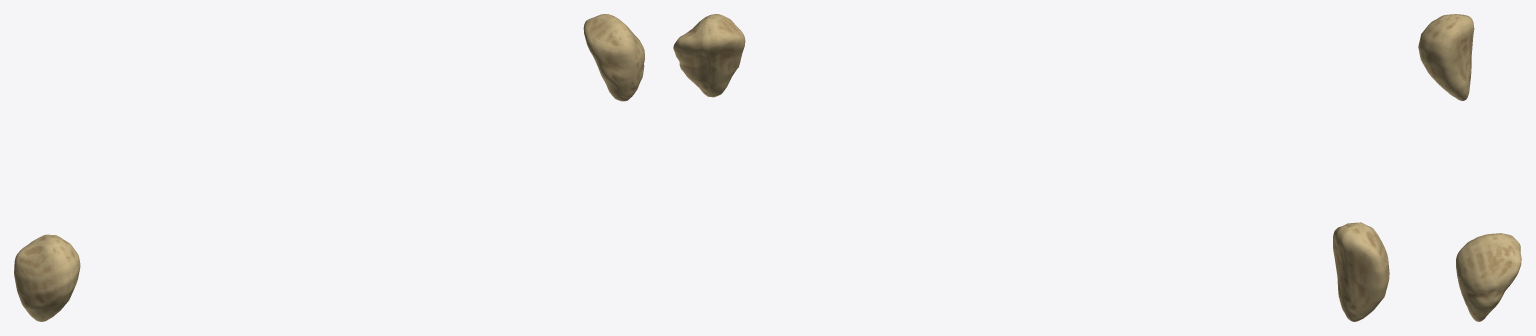
File: Patella.glb
3 views of the same model, side by side, from view 1: azimuth 30°, elevation 25°; view 2: azimuth 150°, elevation 25°; view 3: azimuth 270°, elevation 25° (orthographic). The views are drawn at different scales.
Parts seen in each view (by area): view 1: Group53789.001; view 2: Group53789.001; view 3: Group53789.001.
Boxes of the visible parts, x1=… form: Group53789.001: x1=14, y1=14, x2=644, y2=321; Group53789.001: x1=673, y1=14, x2=1389, y2=321; Group53789.001: x1=1418, y1=14, x2=1521, y2=321.
Bounding box in the file's own units: 316 × 71.57 × 43.35.
1 material, 1 textured.
